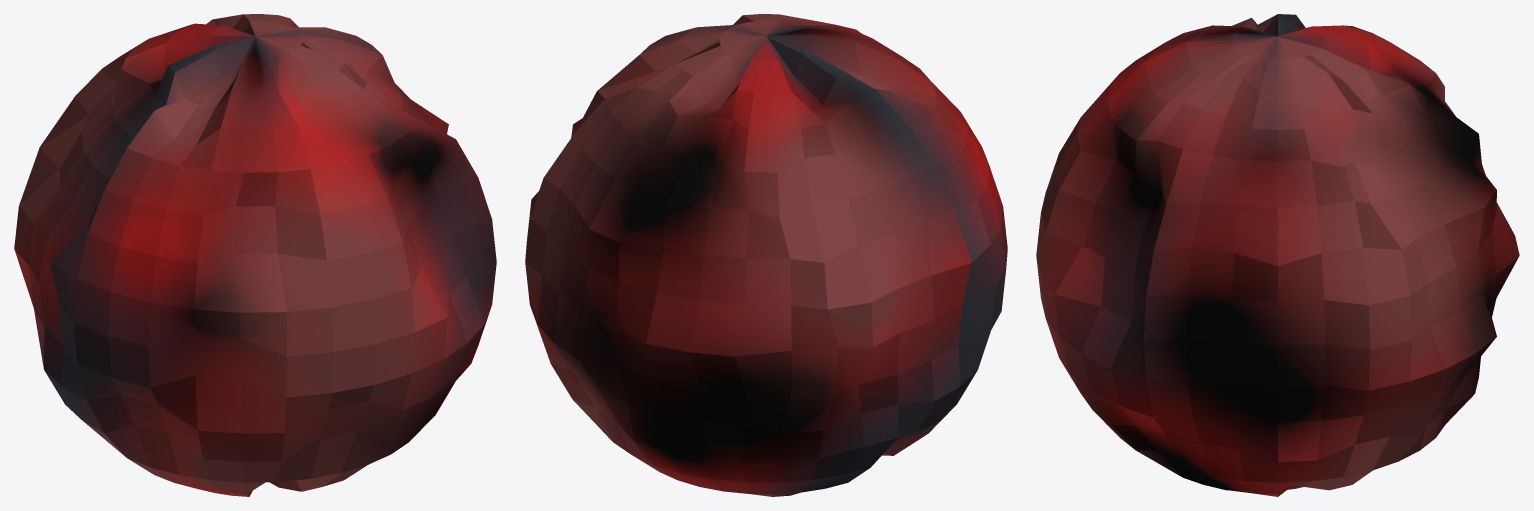
Rendered from meteorite.obj.
The picture shows the model from 3 angles, left to right: view 1: azimuth 30°, elevation 25°; view 2: azimuth 150°, elevation 25°; view 3: azimuth 270°, elevation 25°; orthographic projection.
Parts seen in each view (by area): view 1: 球; view 2: 球; view 3: 球.
Boxes of the visible parts, <box> form: 球: <box>14,14,496,496</box>; 球: <box>525,14,1007,496</box>; 球: <box>1036,14,1519,496</box>.
Size of the model in its own units: 1.9 by 2 by 2.
